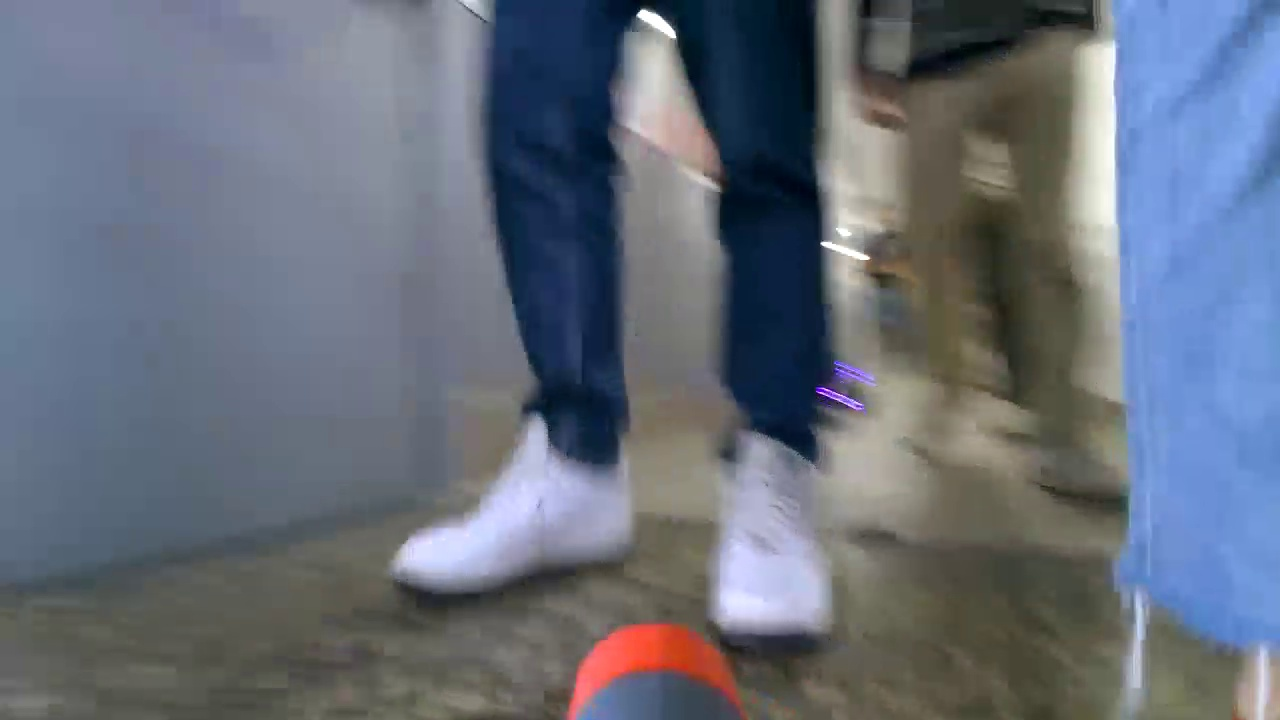robot: (782, 337, 883, 434)
